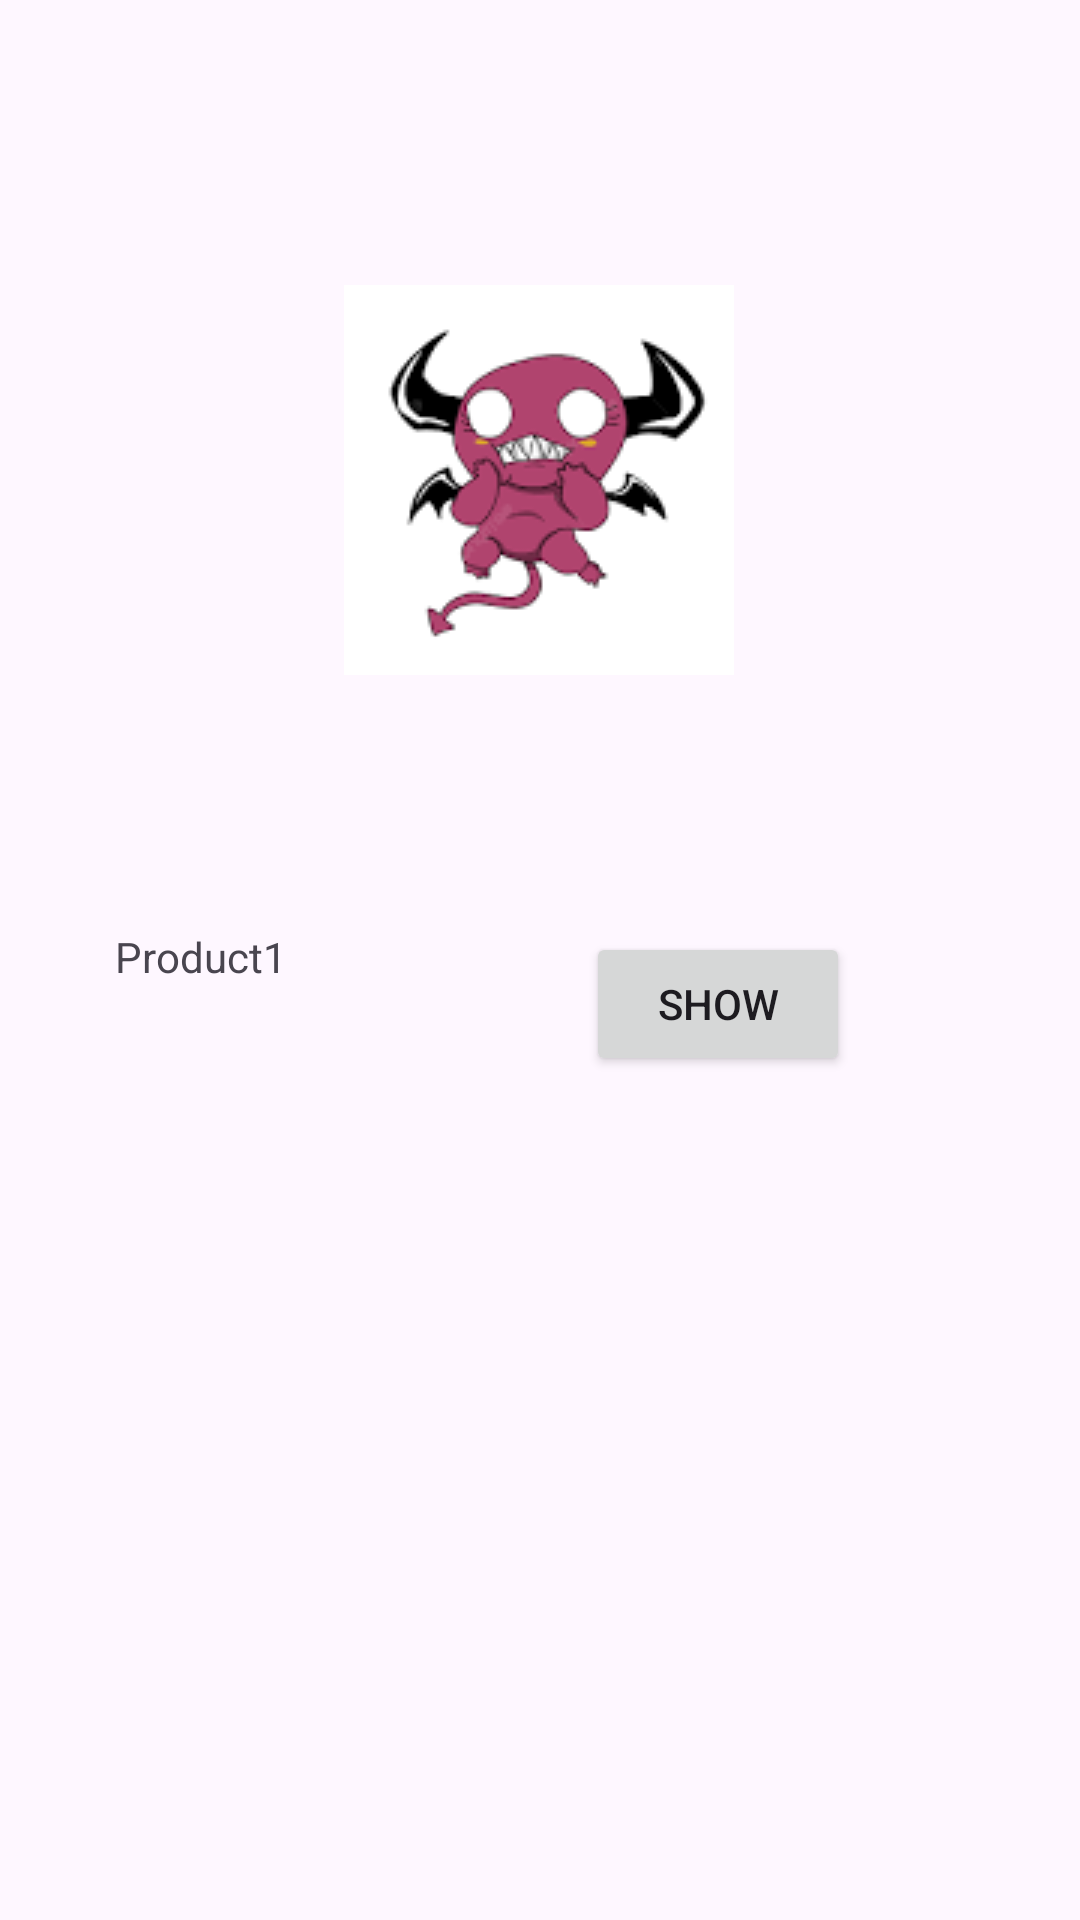

Screen size 1080×1920. Icon name, then its center in pixels as point (x, y):
hell: point (547, 483)
